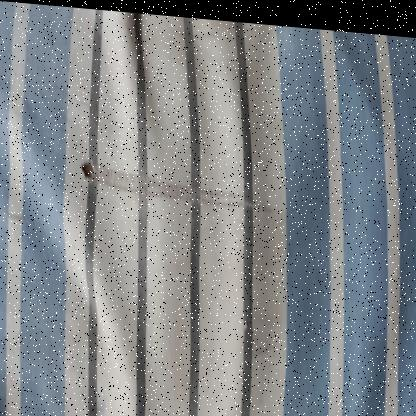spot: (247, 333, 283, 359)
